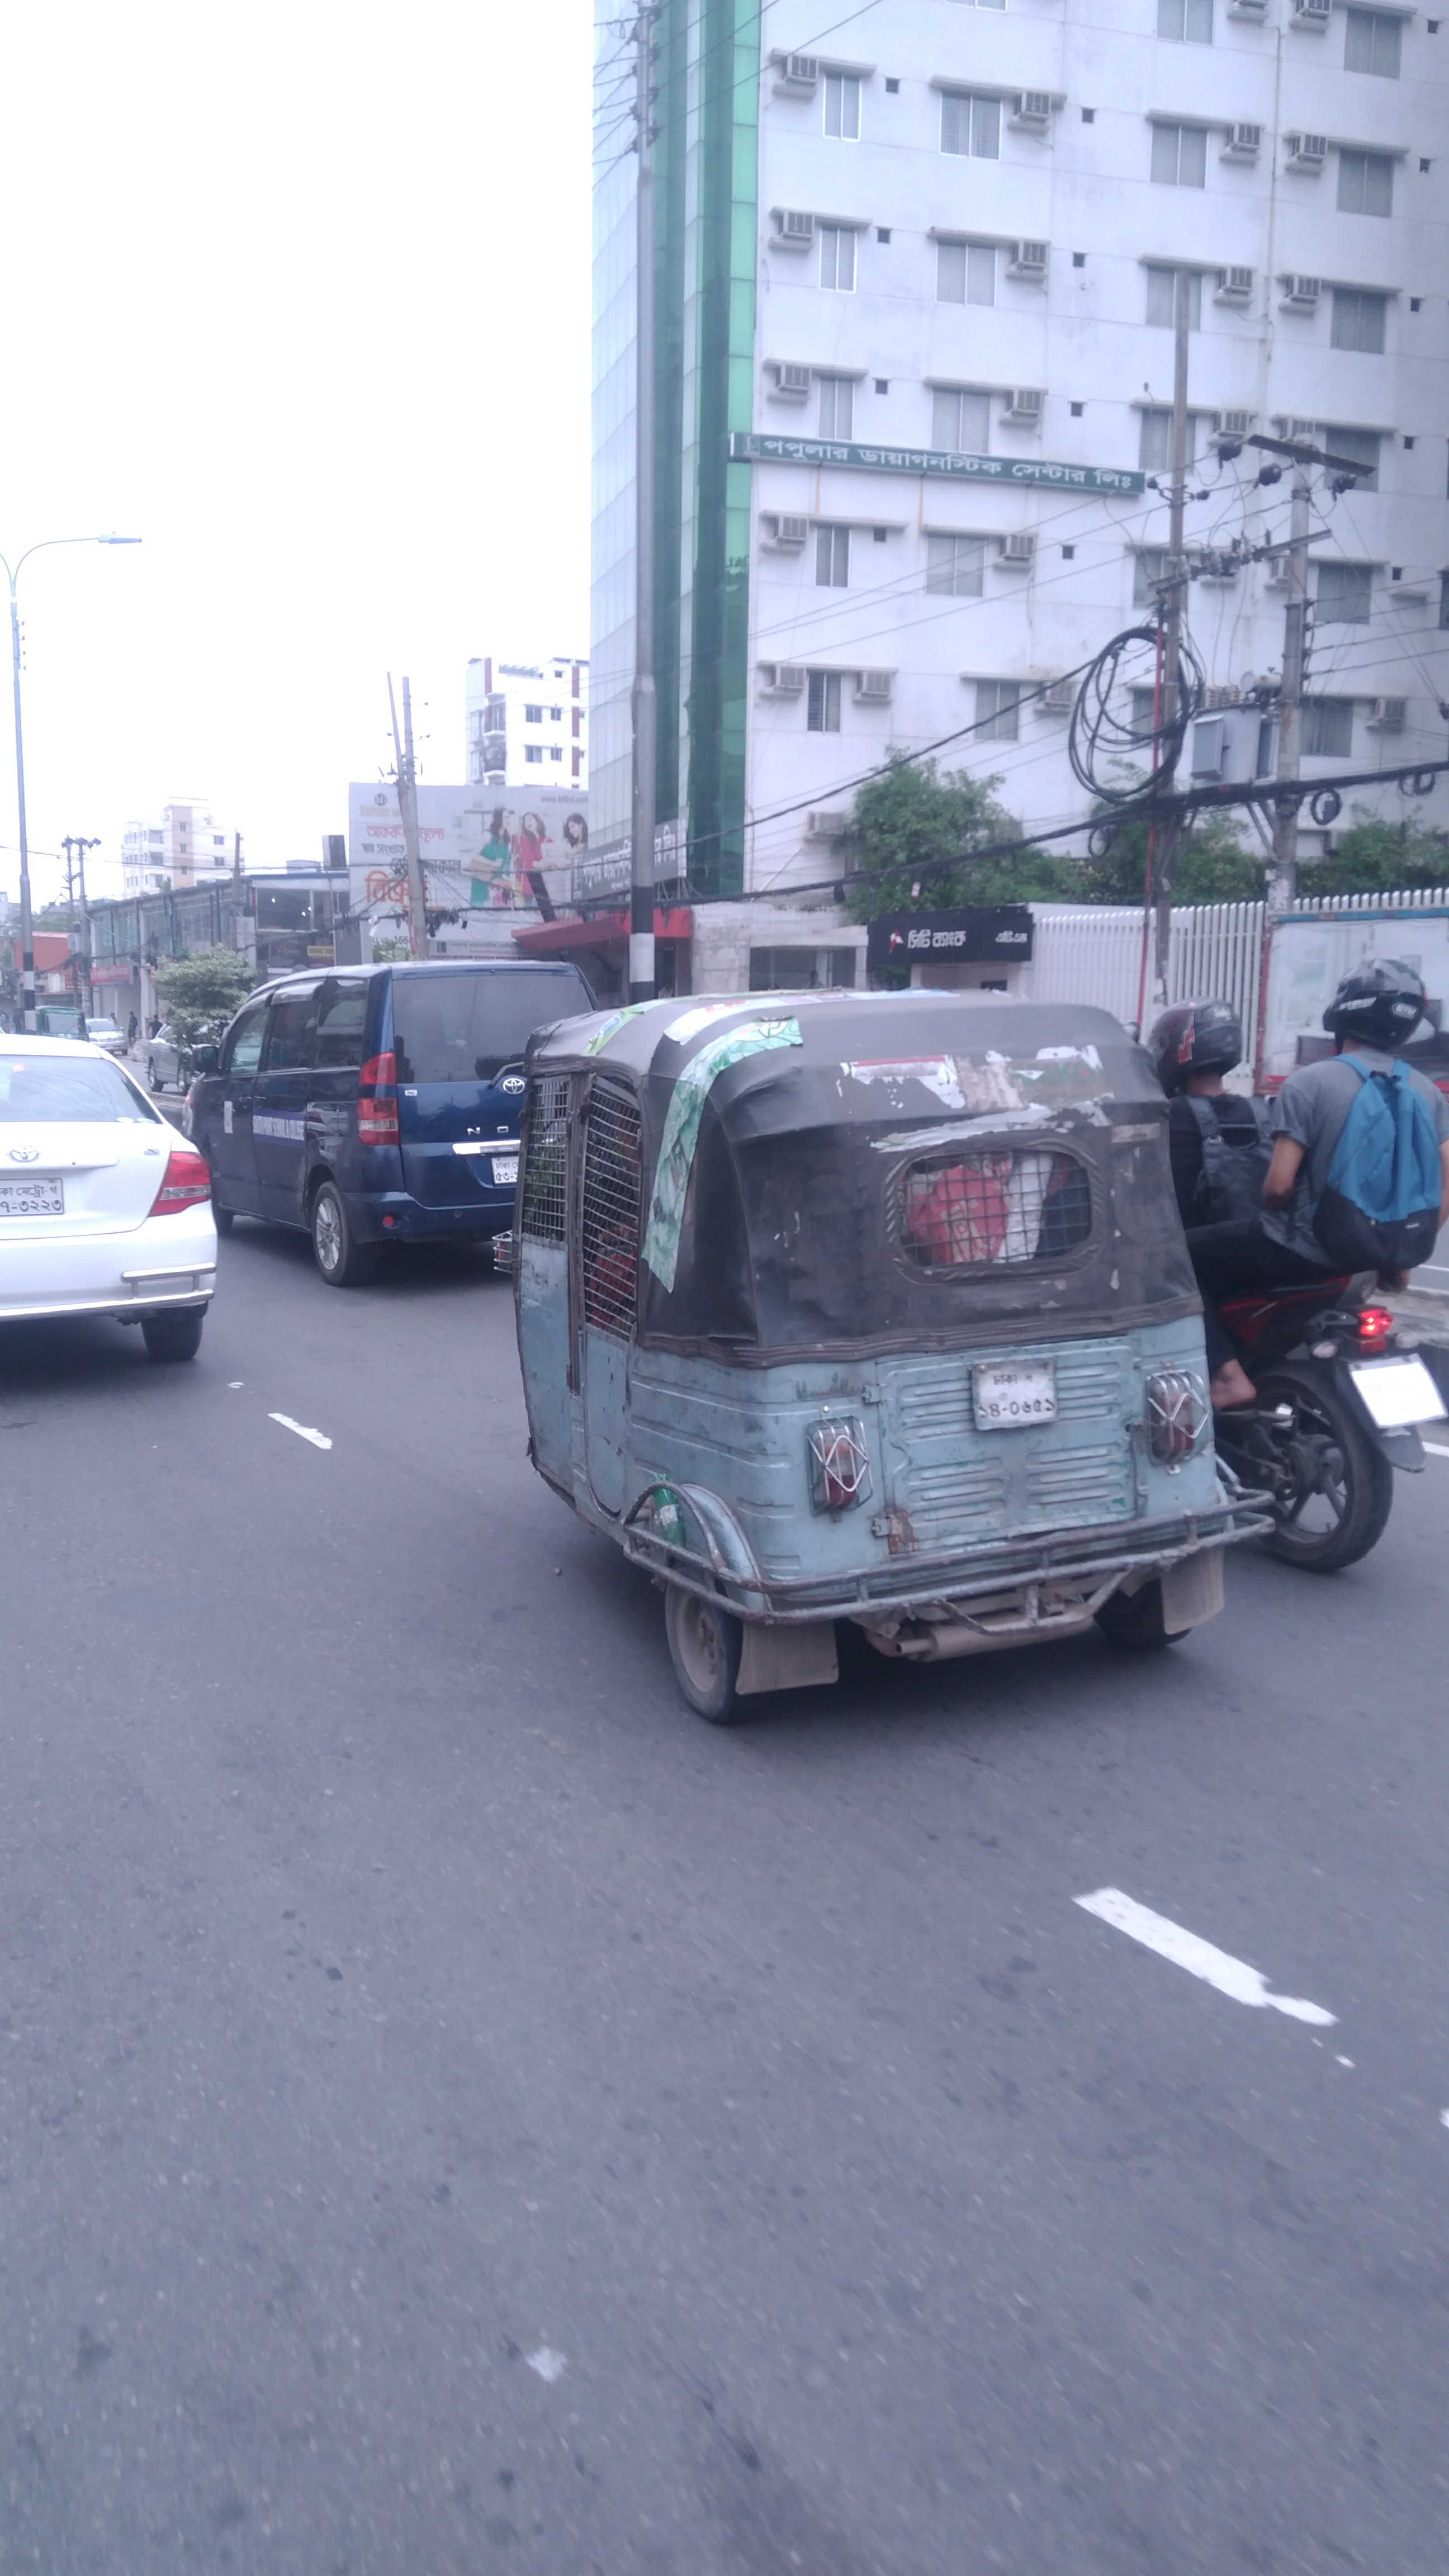bike: (1231, 1270, 1449, 1571)
car: (182, 959, 596, 1283), (0, 1030, 225, 1361)
cng: (497, 991, 1279, 1734)
